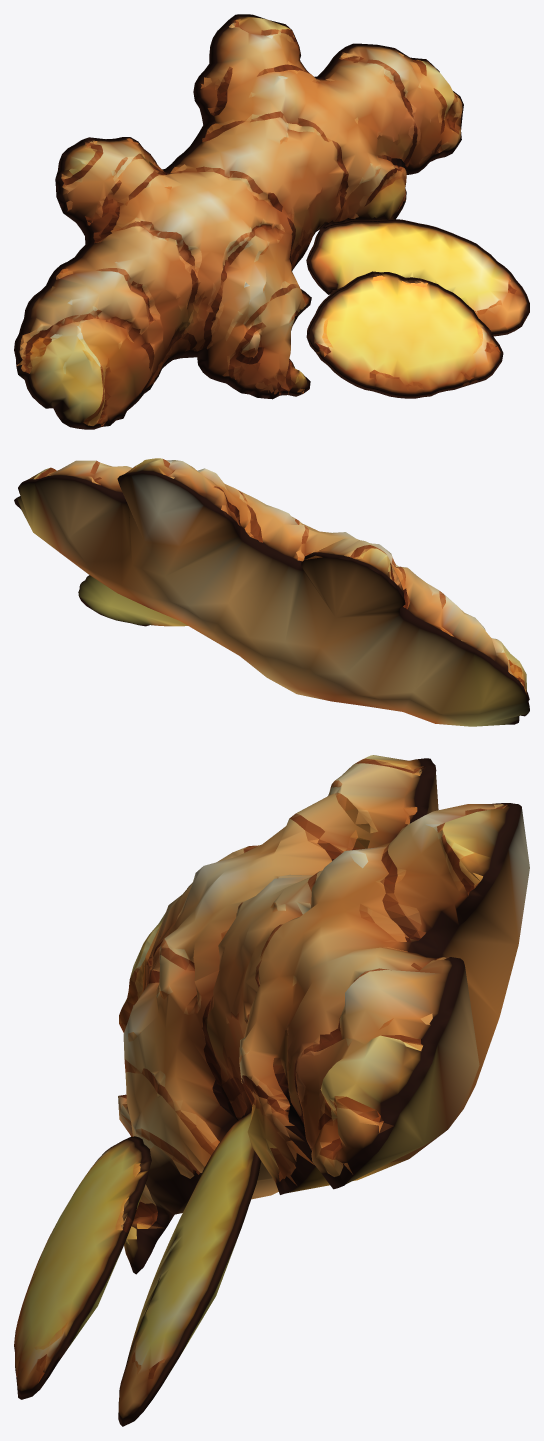
File: SM_ginger.fbx
The picture shows the model from 3 angles, top to bottom: view 1: azimuth 30°, elevation 25°; view 2: azimuth 150°, elevation 25°; view 3: azimuth 270°, elevation 25°; orthographic projection. The views are drawn at different scales.
Parts seen in each view (by area): view 1: SM_ginger; view 2: SM_ginger; view 3: SM_ginger.
Boxes of the visible parts, bbox=[...] form: SM_ginger: bbox=[14, 14, 529, 429]; SM_ginger: bbox=[14, 458, 529, 726]; SM_ginger: bbox=[14, 755, 529, 1426].
Size of the model in its own units: 0.1574 by 0.0891 by 0.0818.
